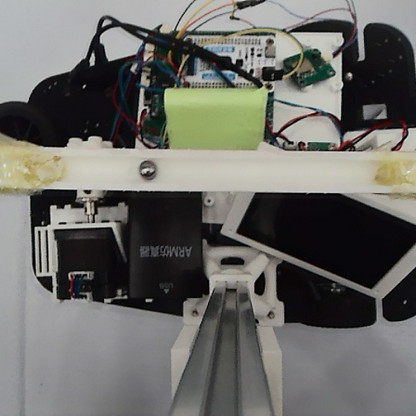ironball: (135, 157, 159, 182)
